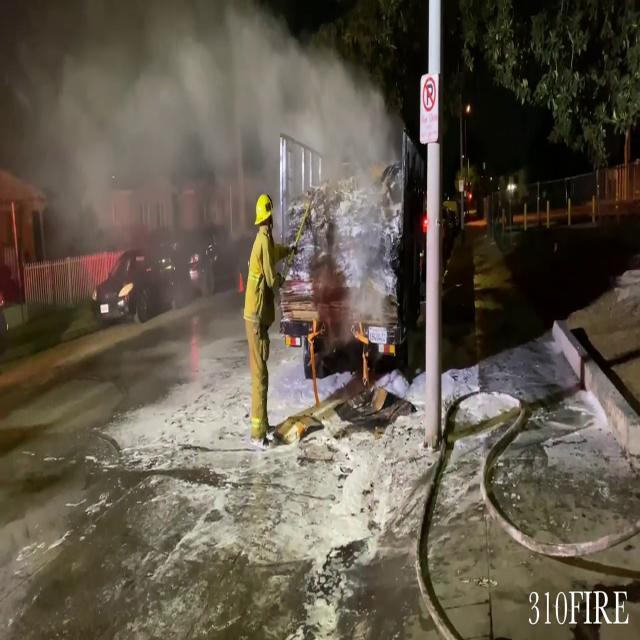Smoke: (0, 0, 397, 204)
